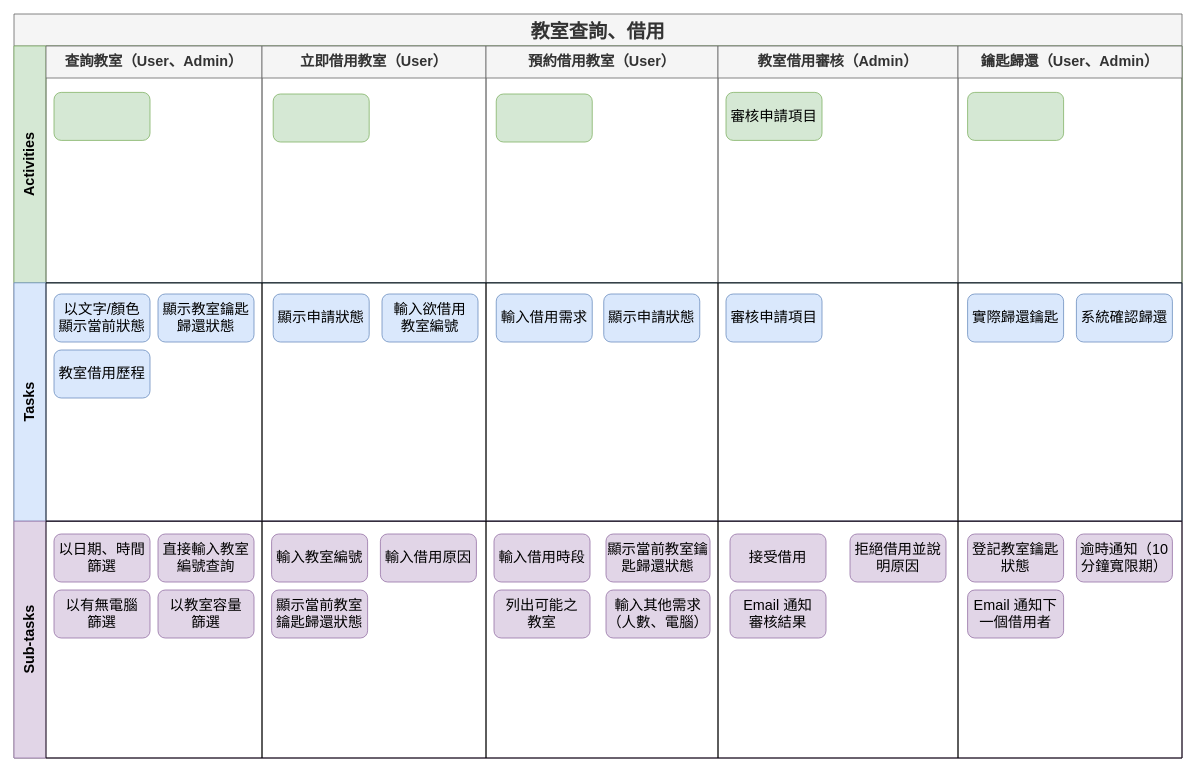
This 1196x772 diagram has some shape labels left out. Here are the shapes that lost their labels. From the top down, the centre of each, then its label:
At point 101,116: "查詢教室借用狀態".
At point 320,117: "即時借用 指定教室".
At point 543,117: "預先申請借用".
At point 1015,116: "歸還後更新 教室狀態".
